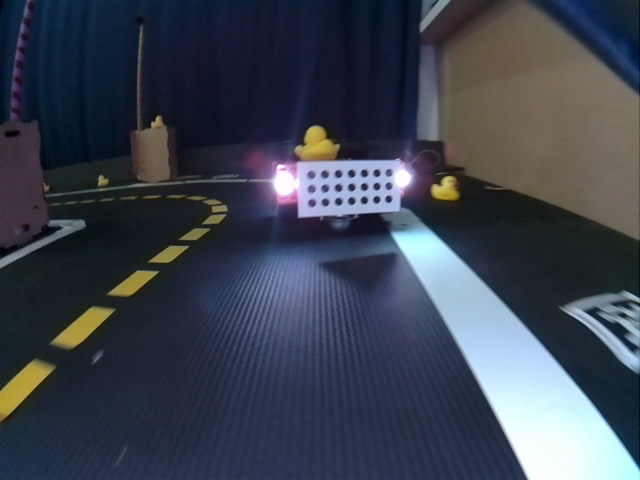Duckie: (295, 126, 338, 160), (431, 177, 458, 198), (150, 115, 162, 126), (98, 175, 108, 186)
Duckiebot: (275, 161, 411, 228)
QR code: (560, 294, 638, 372)
